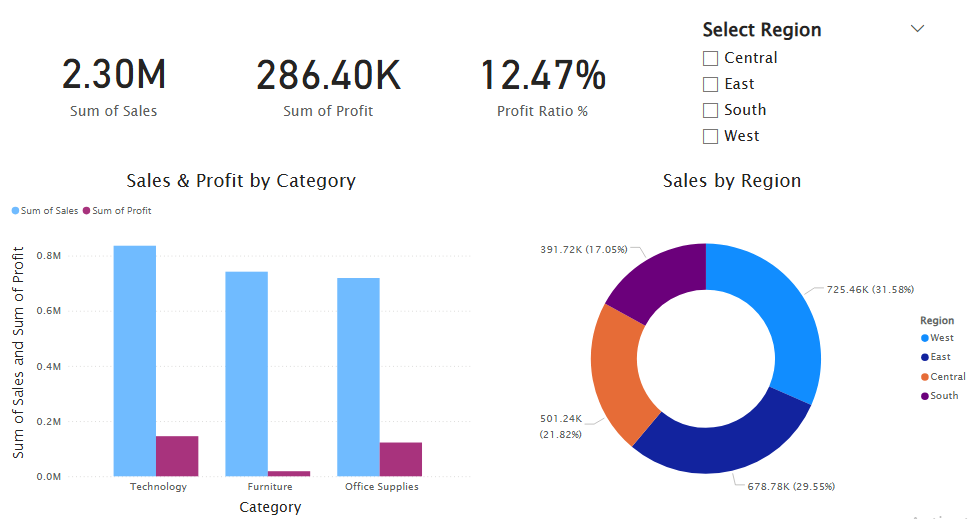

What the dashboard file says about the page in this screenshot:
{"tool":"powerbi","page":{"name":"Sales & Profit Overview","canvas":[1280,720],"ordinal":0},"visuals":[{"type":"card","fields":{"Values":["Sum(updated_superstore.Sales)"]},"box":[10,0,280,280],"z":0},{"type":"card","fields":{"Values":["Sum(updated_superstore.Profit)"]},"box":[290.6,1.7,280.5,278.8],"z":1000},{"type":"card","fields":{"Values":["DateTable.Profit Ratio"]},"box":[571.1,1.7,280.5,278.8],"z":2000},{"type":"clusteredColumnChart","title":"Sales & Profit by Category","fields":{"Y":["Sum(updated_superstore.Sales)","Sum(updated_superstore.Profit)"],"Category":["updated_superstore.Category"]},"box":[10.1,255.3,613.1,465.3],"z":3000},{"type":"donutChart","title":"Sales by Region","fields":{"Y":["Sum(updated_superstore.Sales)"],"Category":["updated_superstore.Region"]},"box":[640,255.3,640,465.3],"z":4000},{"type":"slicer","fields":{"Values":["updated_superstore.Region"]},"box":[908.8,52.1,315.8,203.3],"z":5000}]}

Visuals, with their boxes on the page's 1280x720 design canvas (x1, y1, x2, y2). These are canvas units, not pixel positions in the 974x519 screenshot, which may show the page scaled, cropped or inside an application window:
card - Sum(updated_superstore.Sales): 10:0:290:280
card - Sum(updated_superstore.Profit): 291:2:571:280
card - DateTable.Profit Ratio: 571:2:852:280
"Sales & Profit by Category" clusteredColumnChart: 10:255:623:721
"Sales by Region" donutChart: 640:255:1280:721
slicer - updated_superstore.Region: 909:52:1225:255
